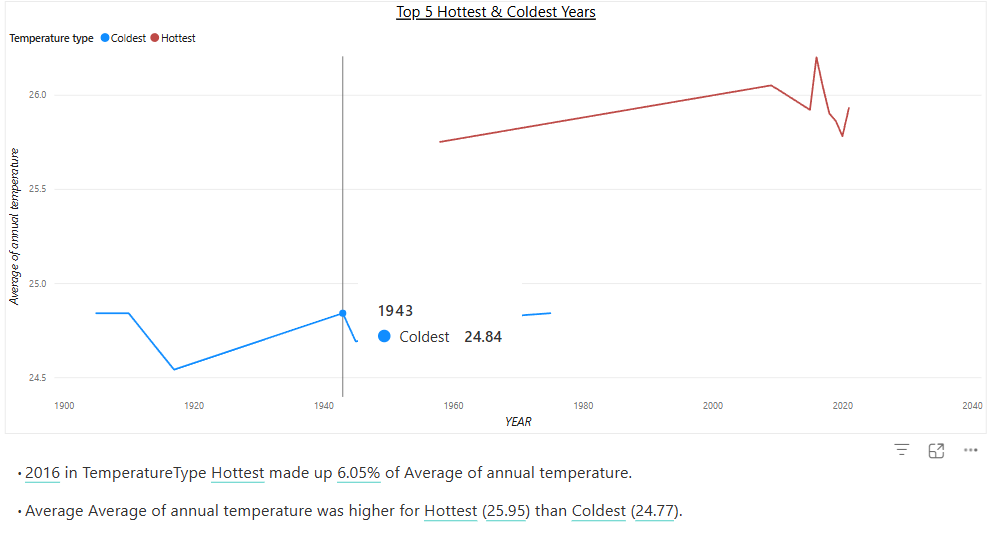

What the dashboard file says about the page in this screenshot:
{"tool":"powerbi","page":{"name":"Page 4","canvas":[1280,720],"ordinal":3},"visuals":[{"type":"lineChart","title":"Top 5 Hottest & Coldest Years","fields":{"Category":["ExtremeYears.YEAR"],"Y":["Avg(ExtremeYears.ANNUAL_MEAN)"],"Series":["ExtremeYears.TemperatureType"]},"box":[10,5.7,960,458.6],"z":0},{"type":"textbox","box":[10,500,960,220],"z":1}]}

Visuals, with their boxes in screenshot pixels (x1, y1, x2, y2), scaled from the page's 1280x720 canvas onto the 992x547 screenshot:
"Top 5 Hottest & Coldest Years" lineChart: [8,4,752,353]
textbox: [8,380,752,546]
